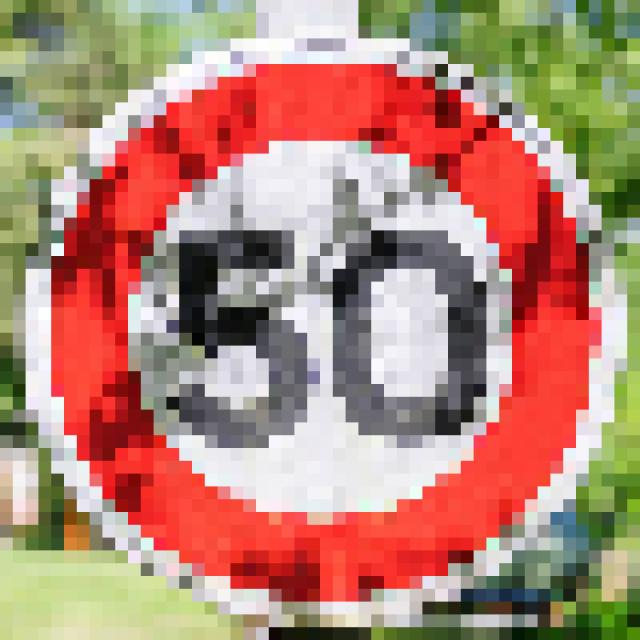Limite-50: (35, 41, 618, 628)
